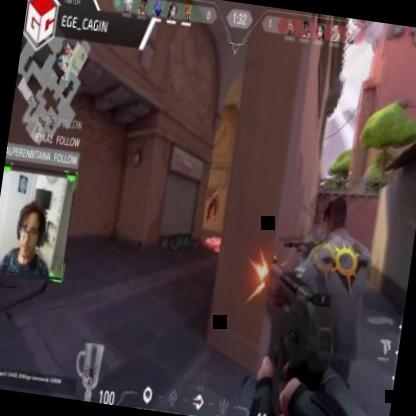enemy: (205, 186, 220, 219)
enemy_head: (212, 187, 216, 196)
